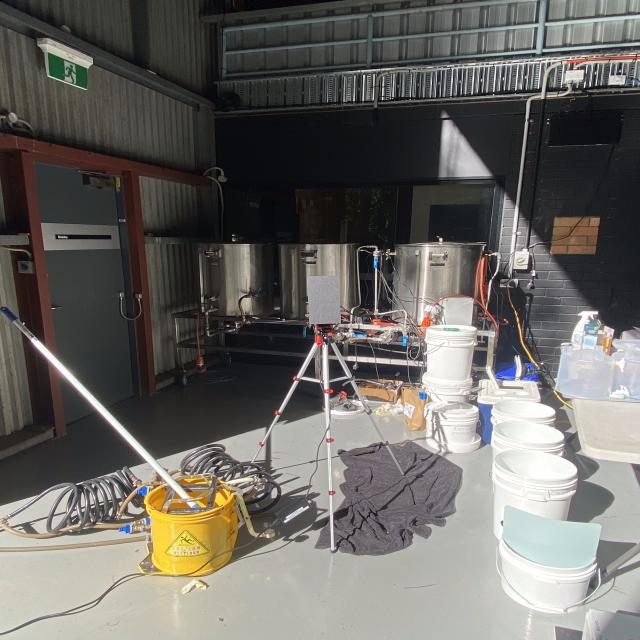matrix: (304, 274, 345, 327)
